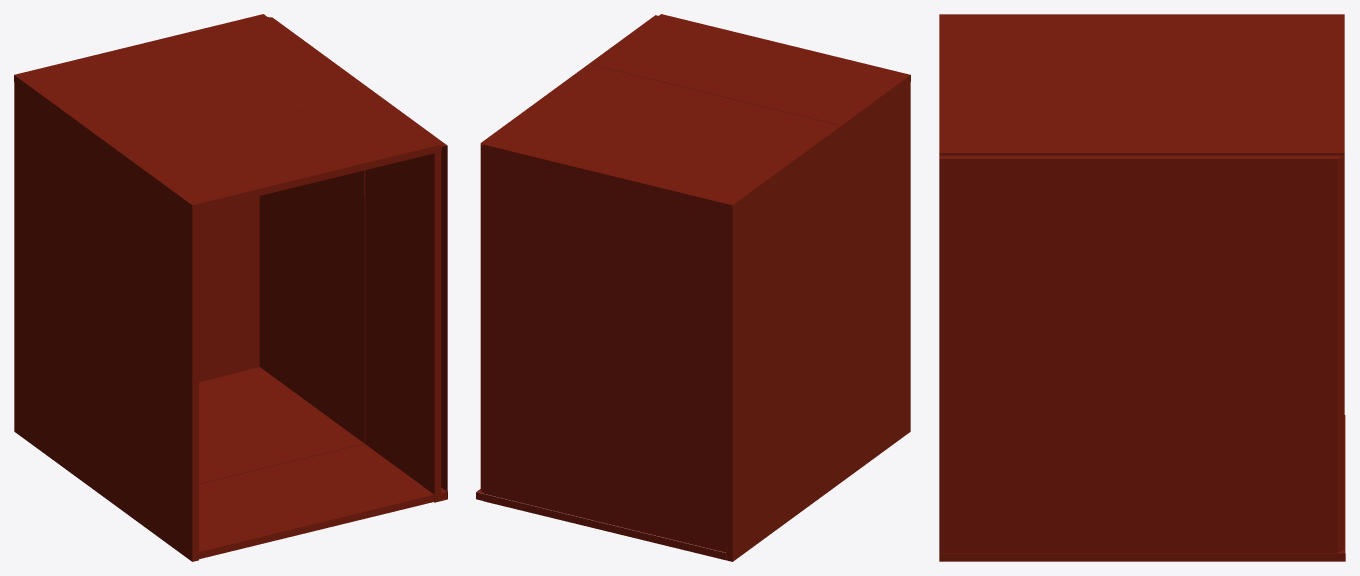
The model's file is puertaFuegoAtras.fbx.
3 views of the same model, side by side, from view 1: azimuth 30°, elevation 25°; view 2: azimuth 150°, elevation 25°; view 3: azimuth 270°, elevation 25° (orthographic). The views are drawn at different scales.
Parts seen in each view (by area): view 1: PuertaFuego.004; view 2: PuertaFuego.004; view 3: PuertaFuego.004.
Boxes of the visible parts, bbox=[...] form: PuertaFuego.004: bbox=[14, 14, 447, 561]; PuertaFuego.004: bbox=[476, 14, 910, 561]; PuertaFuego.004: bbox=[939, 14, 1345, 561].
Size of the model in its own units: 75.1 by 100 by 90.52.
1 material, 1 textured.
